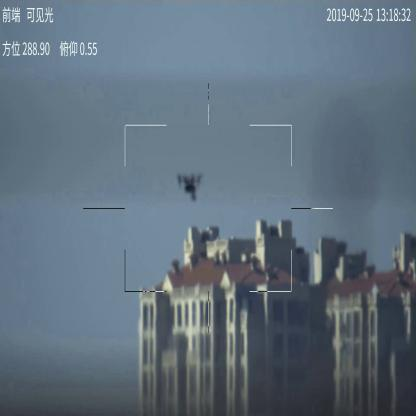uav: (176, 172, 201, 202)
